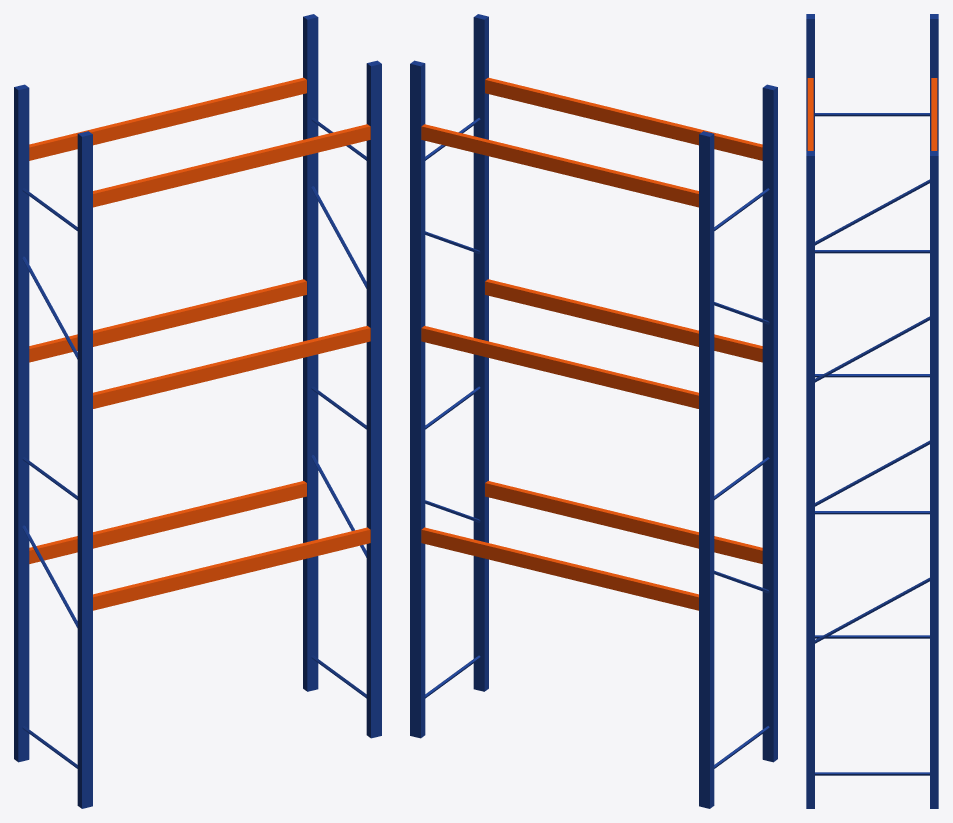
Rendered from industrial.racking.empty_1.glb.
3 renders of one model, left to right at view 1: azimuth 30°, elevation 25°; view 2: azimuth 150°, elevation 25°; view 3: azimuth 270°, elevation 25°, orthographic. The views are drawn at different scales.
Parts seen in each view (by area): view 1: main__plastic_blue, main__hivis_orange; view 2: main__plastic_blue, main__hivis_orange; view 3: main__plastic_blue, main__hivis_orange.
Part boxes in pixels (bbox=[...]): main__plastic_blue: bbox=[14, 14, 381, 808]; main__hivis_orange: bbox=[29, 77, 370, 610]; main__plastic_blue: bbox=[410, 14, 777, 808]; main__hivis_orange: bbox=[421, 77, 762, 610]; main__plastic_blue: bbox=[806, 14, 938, 808]; main__hivis_orange: bbox=[807, 78, 937, 150].
Size of the model in its own units: 2.8 by 6 by 1.1.
